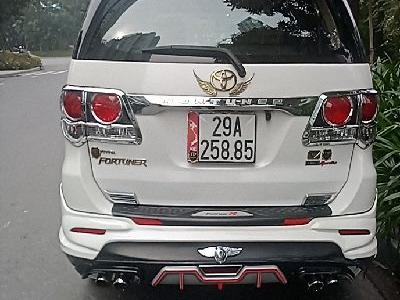number: (186, 111, 256, 163)
